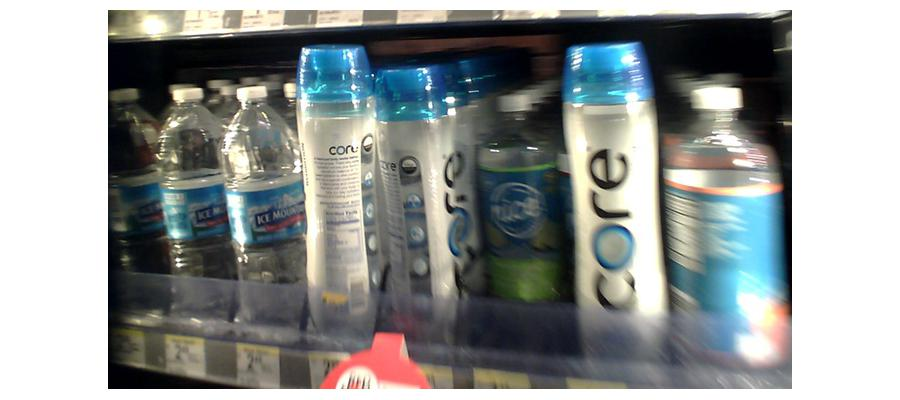bottle: (666, 91, 787, 382), (564, 46, 667, 372), (371, 61, 468, 352), (294, 41, 374, 347), (220, 85, 302, 346), (470, 95, 559, 334), (155, 77, 223, 324)
